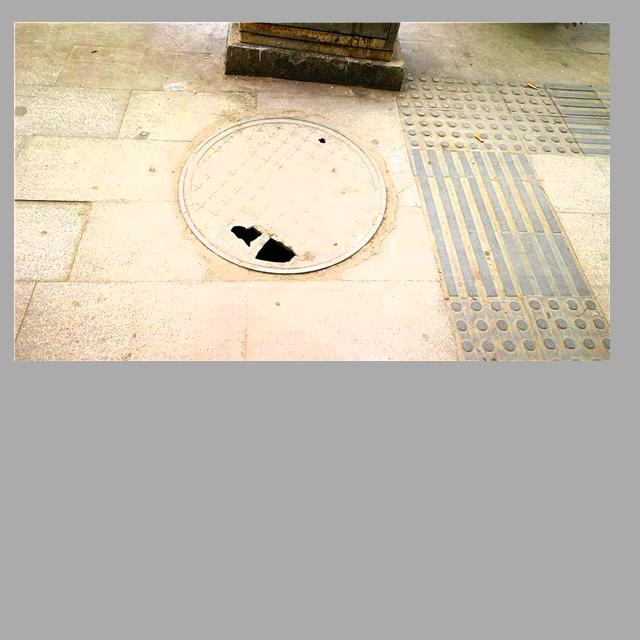broke: (179, 114, 386, 273)
